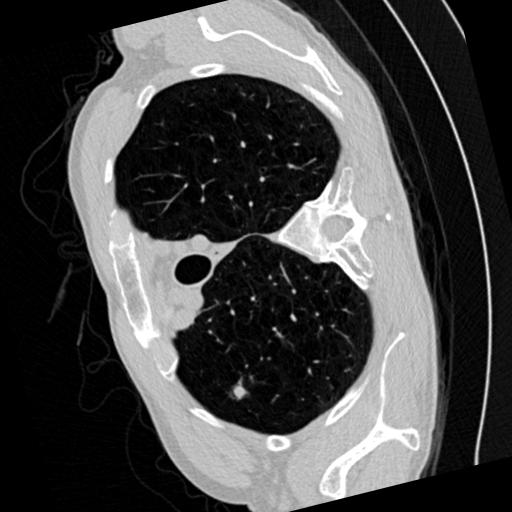nodule: (230, 383, 251, 404)
